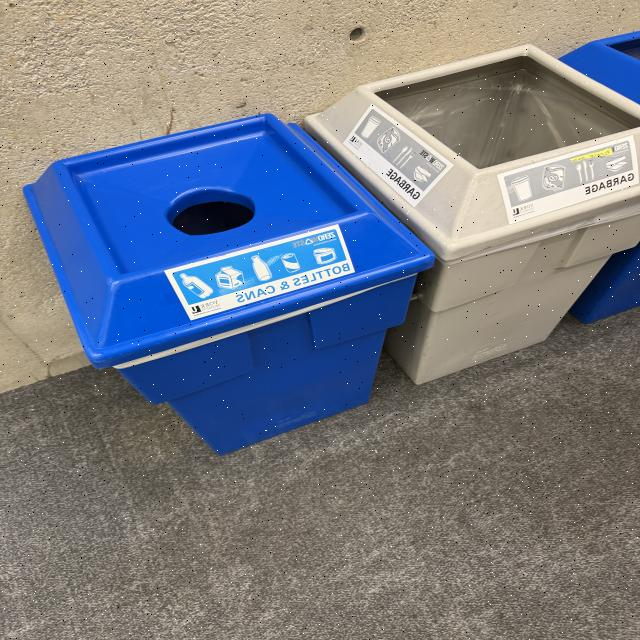Dustbin: (19, 27, 640, 459)
